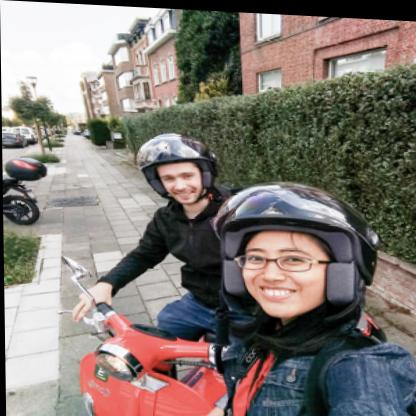With Helmet: (214, 175, 378, 319), (129, 125, 226, 209)
